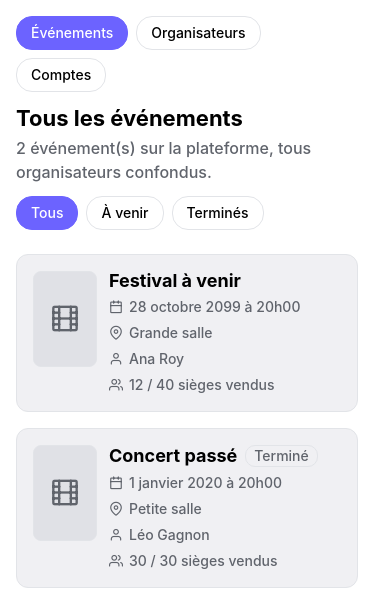
Scenario: SupervisionScreen : organisateurs (#15) › passe à la liste des organisateurs, chargée avec le jeton de l'administrateur
Click the button "Organisateurs" at {"x": 198, "y": 33}, box [136,16,261,50]
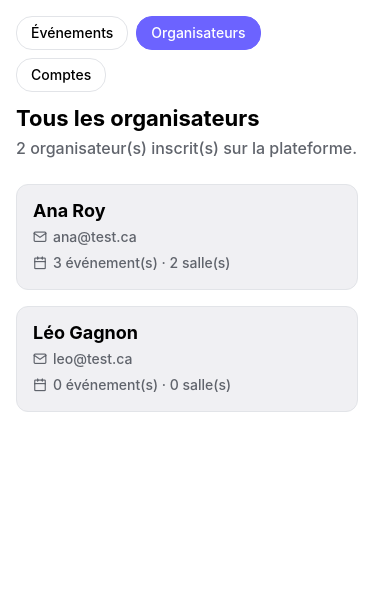
Check: the text "Tous les organisateurs" is shown, box [16,105,260,131]
Check: the text "2 organisateur(s) inscrit(s) sur la plateforme." is shown, box [16,136,358,160]
